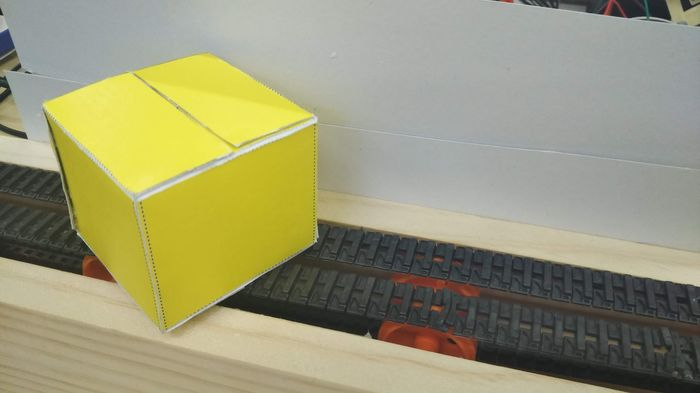box4: (41, 48, 320, 332)
